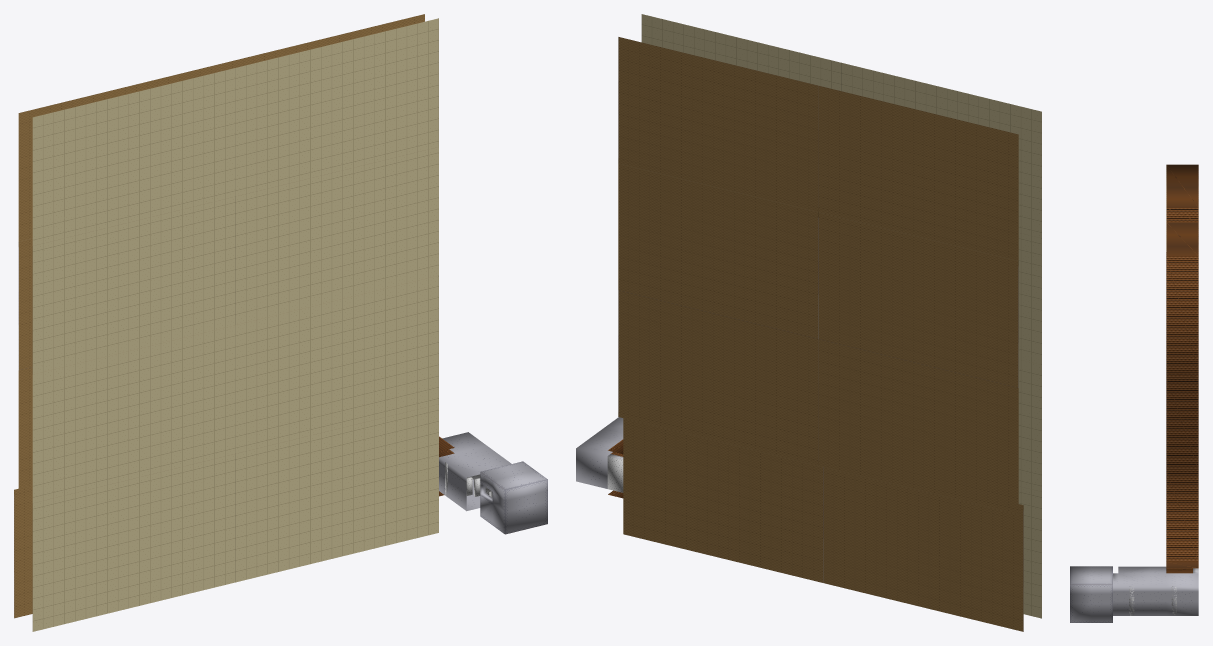
The model's file is warehouse.fbx.
3 views of the same model, side by side, from view 1: azimuth 30°, elevation 25°; view 2: azimuth 150°, elevation 25°; view 3: azimuth 270°, elevation 25° (orthographic). The views are drawn at different scales.
Parts seen in each view (by area): view 1: Cube_002; view 2: Cube_002; view 3: Cube_002.
Part boxes in pixels (x1,y1,x2,y2): Cube_002: (14,14,547,631); Cube_002: (576,14,1041,631); Cube_002: (1070,164,1198,622).
Bounding box in the file's own units: 86 × 92 × 24.07.
1 material, 1 textured.
